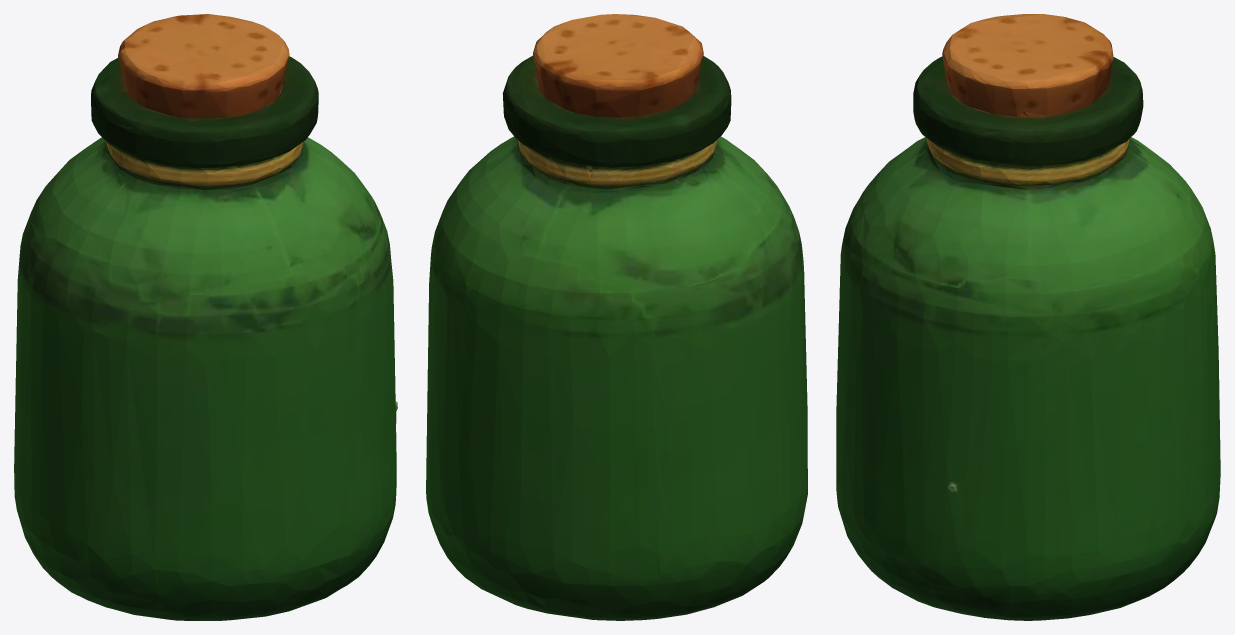
Rendered from bottle.glb.
3 renders of one model, left to right at view 1: azimuth 30°, elevation 25°; view 2: azimuth 150°, elevation 25°; view 3: azimuth 270°, elevation 25°, orthographic.
Visible parts, largest first — view 1: geometry_0; view 2: geometry_0; view 3: geometry_0.
Part boxes in pixels (box(x1,y1,x2,y2)): geometry_0: box(14, 14, 397, 620); geometry_0: box(426, 14, 807, 620); geometry_0: box(836, 14, 1220, 620).
Bounding box in the file's own units: 0.6795 × 0.9994 × 0.6832.
1 material, 1 textured.
